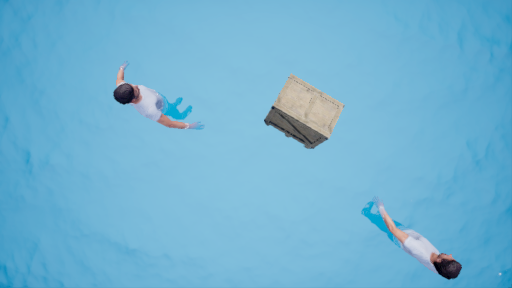person: (356, 196, 463, 288), (117, 59, 207, 140)
